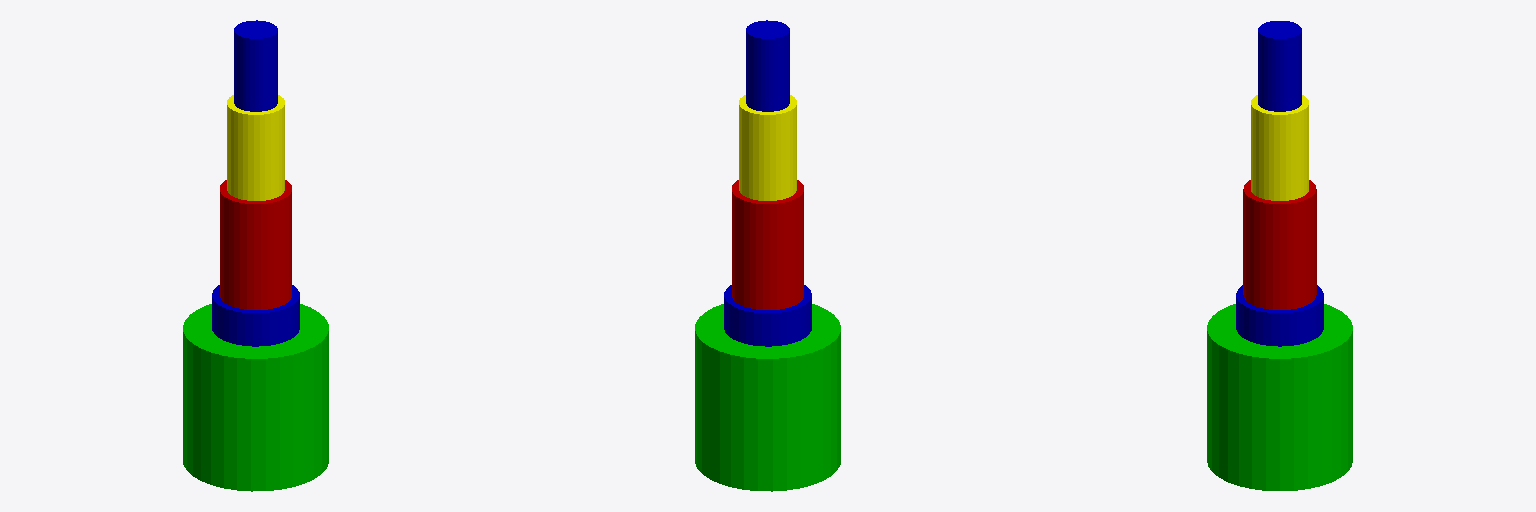
robot.urdf — arm_4dof:
<?xml version="1.0"?>
<robot name="arm_4dof">

  <!-- MATERIALS -->
  <material name="blue">
    <color rgba="0 0 0.8 1"/>
  </material>

  <material name="red">
    <color rgba="0.8 0 0 1"/>
  </material>

  <material name="green">
    <color rgba="0 0.8 0 1"/>
  </material>

  <material name="yellow">
    <color rgba="1 1 0 1"/>
  </material>

  <!-- WORLD -->
  <link name="world"/>

  <joint name="fixed_base" type="fixed">
    <parent link="world"/>
    <child link="base_link"/>
  </joint>

  <!-- BASE -->
  <link name="base_link">
    <visual>
      <geometry>
        <cylinder length="0.2" radius="0.1"/>
      </geometry>
      <origin xyz="0 0 0.1"/>
      <material name="green"/>
    </visual>
  </link>

  <!-- JOINT 1 (Base Rotation) -->
  <joint name="joint_1" type="revolute">
    <parent link="base_link"/>
    <child link="link_1"/>
    <origin xyz="0 0 0.2"/>
    <axis xyz="0 0 1"/>
    <limit lower="-3.14" upper="3.14" effort="10" velocity="1"/>
  </joint>

  <!-- LINK 1 -->
  <link name="link_1">
    <visual>
      <geometry>
        <cylinder length="0.05" radius="0.06"/>
      </geometry>
      <origin xyz="0 0 0.025"/>
      <material name="blue"/>
    </visual>
  </link>

  <!-- JOINT 2 (Shoulder) -->
  <joint name="joint_2" type="revolute">
    <parent link="link_1"/>
    <child link="link_2"/>
    <origin xyz="0 0 0.05"/>
    <axis xyz="0 1 0"/>
    <limit lower="-1.57" upper="1.57" effort="10" velocity="1"/>
  </joint>

  <!-- LINK 2 -->
  <link name="link_2">
    <visual>
      <geometry>
        <cylinder length="0.16" radius="0.05"/>
      </geometry>
      <origin xyz="0 0 0.08"/>
      <material name="red"/>
    </visual>
  </link>

  <!-- JOINT 3 (Elbow) -->
  <joint name="joint_3" type="revolute">
    <parent link="link_2"/>
    <child link="link_3"/>
    <origin xyz="0 0 0.15"/>
    <axis xyz="0 1 0"/>
    <limit lower="-1.57" upper="1.57" effort="10" velocity="1"/>
  </joint>

  <!-- LINK 3 -->
  <link name="link_3">
    <visual>
      <geometry>
        <cylinder length="0.14" radius="0.04"/>
      </geometry>
      <origin xyz="0 0 0.07"/>
      <material name="yellow"/>
    </visual>
  </link>

  <!-- JOINT 4 (Wrist Pitch) -->
  <joint name="joint_4" type="revolute">
    <parent link="link_3"/>
    <child link="link_4"/>
    <origin xyz="0 0 0.13"/>
    <axis xyz="0 1 0"/>
    <limit lower="-1.57" upper="1.57" effort="10" velocity="1"/>
  </joint>

  <!-- LINK 4 (End Effector) -->
  <link name="link_4">
    <visual>
      <geometry>
        <cylinder length="0.12" radius="0.03"/>
      </geometry>
      <origin xyz="0 0 0.06"/>
      <material name="blue"/>
    </visual>
  </link>

</robot>

--- Render facts (derived) ---
Views: 3 orthographic renders of the robot side by side, from view 1: azimuth 30°, elevation 25°; view 2: azimuth 150°, elevation 25°; view 3: azimuth 270°, elevation 25°.
Robot: arm_4dof — 6 links, 5 joints (4 revolute, 1 fixed); root link world; default pose: every joint at zero.
Links seen in each view (by area): view 1: base_link, link_2, link_3, link_4, link_1; view 2: base_link, link_2, link_3, link_4, link_1; view 3: base_link, link_2, link_3, link_4, link_1.
Boxes of the visible links, <box> form: base_link: <box>183,304,328,491</box>; link_2: <box>220,180,291,309</box>; link_3: <box>227,95,284,200</box>; link_4: <box>234,20,277,111</box>; link_1: <box>212,285,299,346</box>; base_link: <box>695,304,840,491</box>; link_2: <box>732,180,803,309</box>; link_3: <box>739,95,796,200</box>; link_4: <box>746,20,789,111</box>; link_1: <box>724,285,811,346</box>; base_link: <box>1207,304,1352,490</box>; link_2: <box>1243,180,1316,309</box>; link_3: <box>1251,95,1308,200</box>; link_4: <box>1258,21,1301,111</box>; link_1: <box>1236,285,1323,346</box>.
Size in the robot's own frame: 0.2 by 0.2 by 0.65 metres.
Geometry: primitives only (box / cylinder / sphere), no mesh files.
